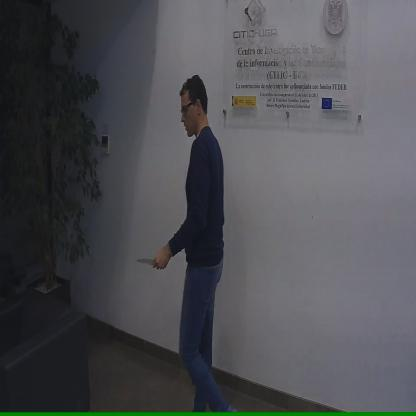knife: (135, 248, 166, 272)
